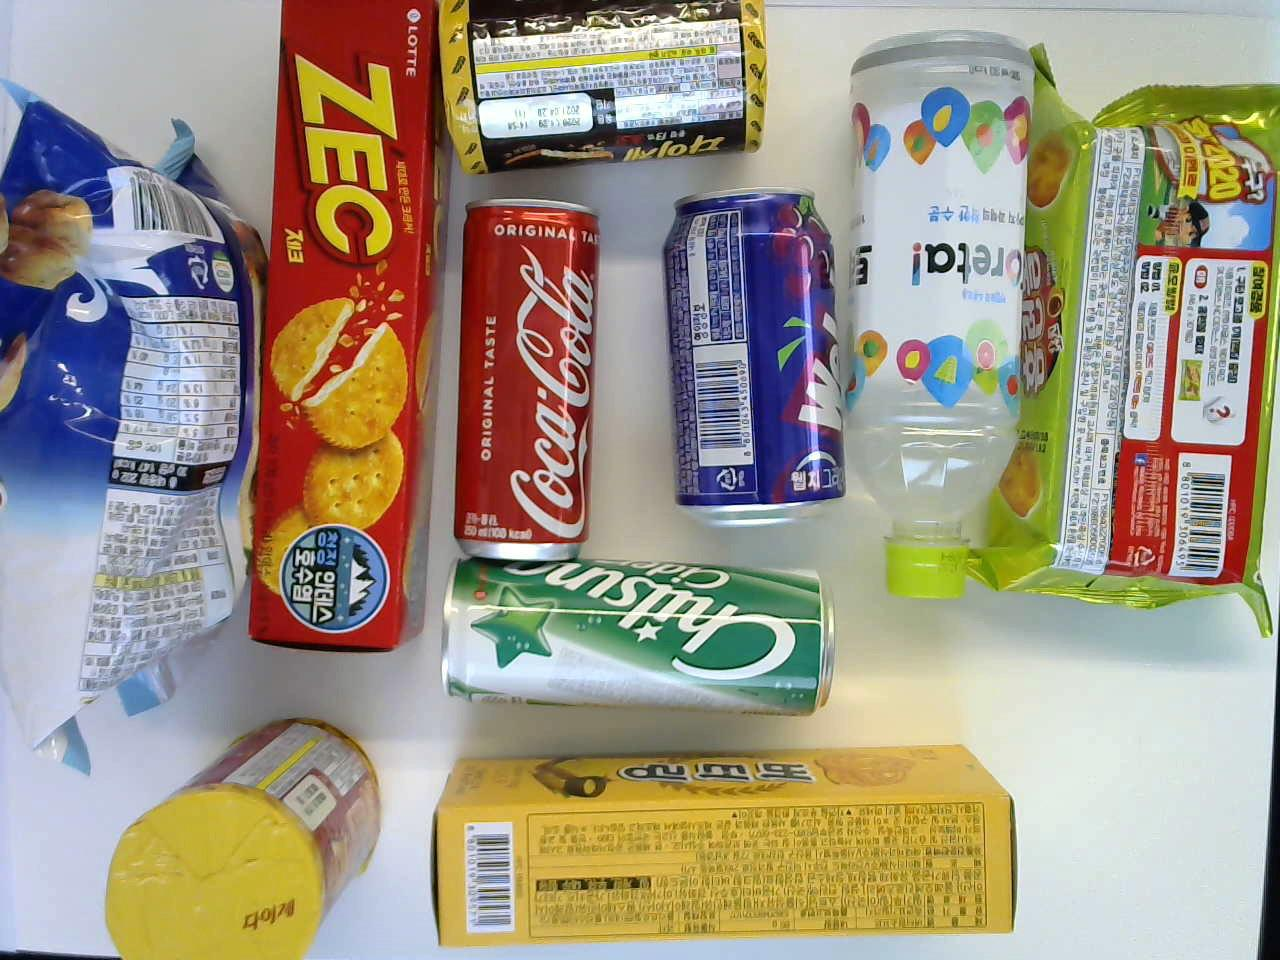buttering: (430, 739, 1014, 945)
cidar: (438, 564, 839, 710)
coke: (460, 194, 603, 555)
diget_choco: (433, 0, 775, 173)
diget_ori: (72, 724, 394, 959)
homerunball: (953, 77, 1273, 633)
squid_peanut: (0, 73, 270, 779)
toreta: (842, 23, 1045, 615)
welchs: (648, 193, 848, 527)
zec: (249, 0, 432, 661)
